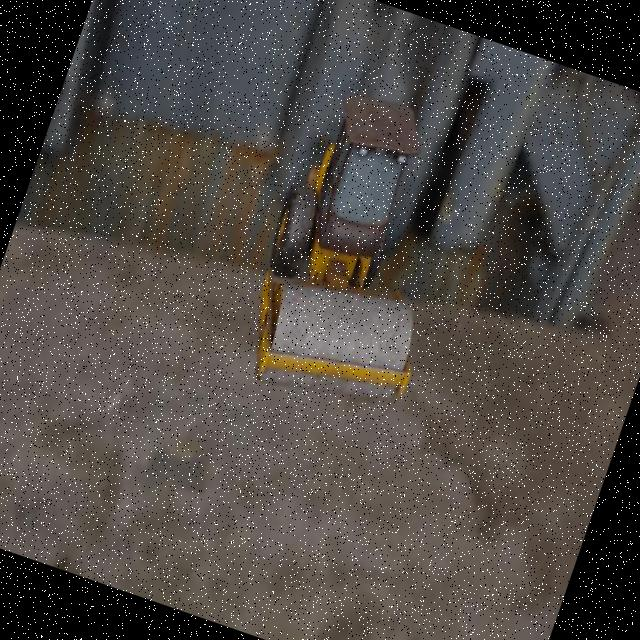Roller: (225, 79, 492, 428)
